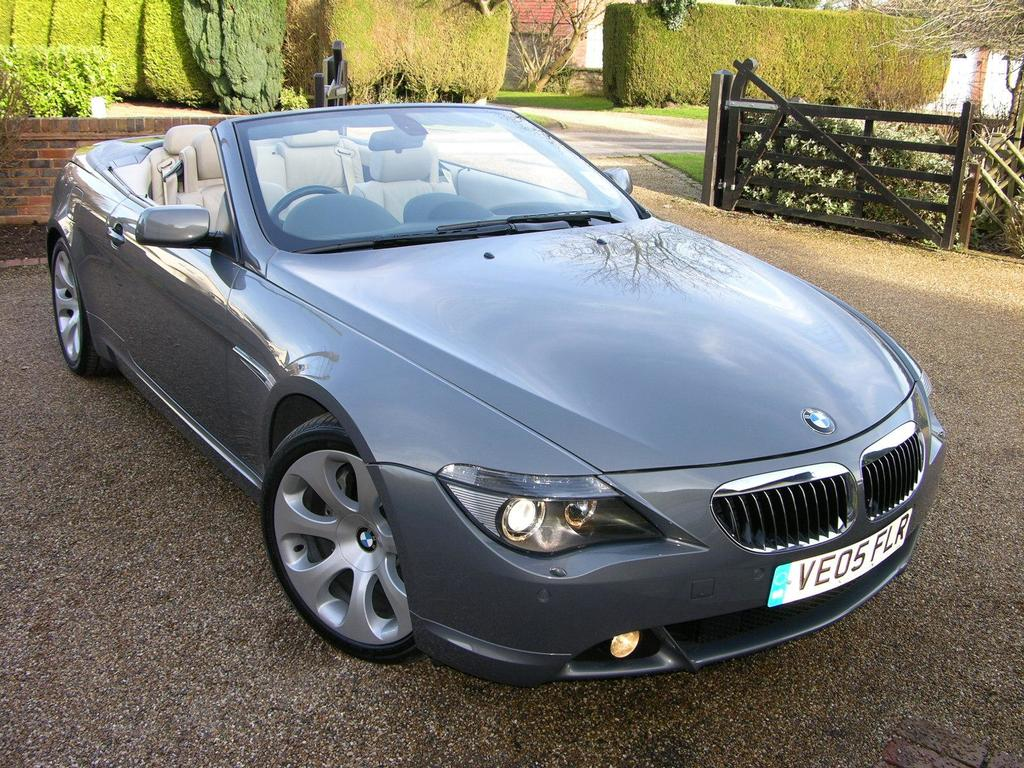Car: (55, 100, 904, 686)
